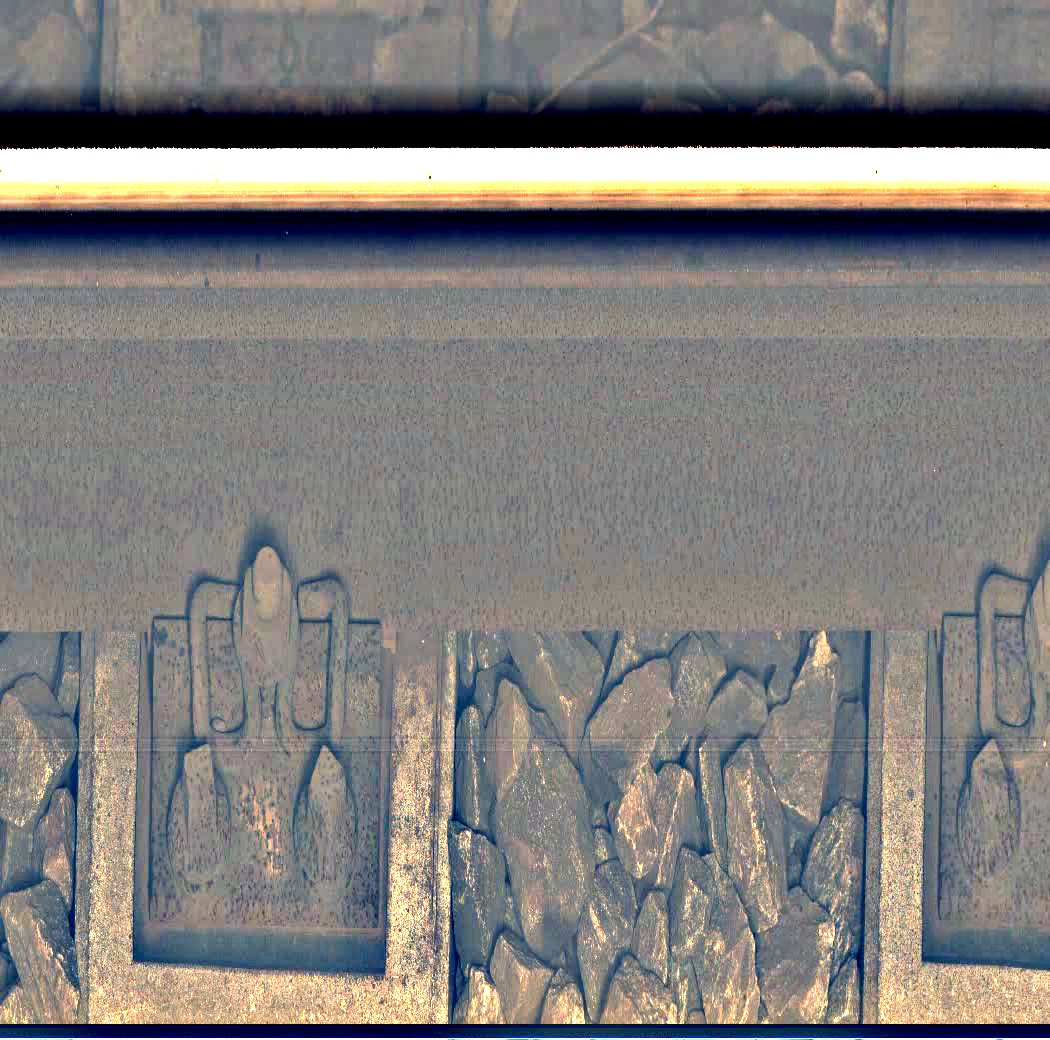tension_clamp: (121, 526, 430, 1000), (918, 516, 1050, 982)
